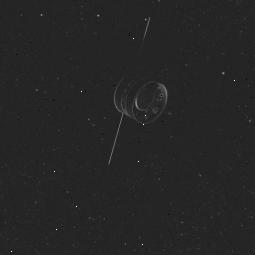double_start: (103, 64, 173, 141)
